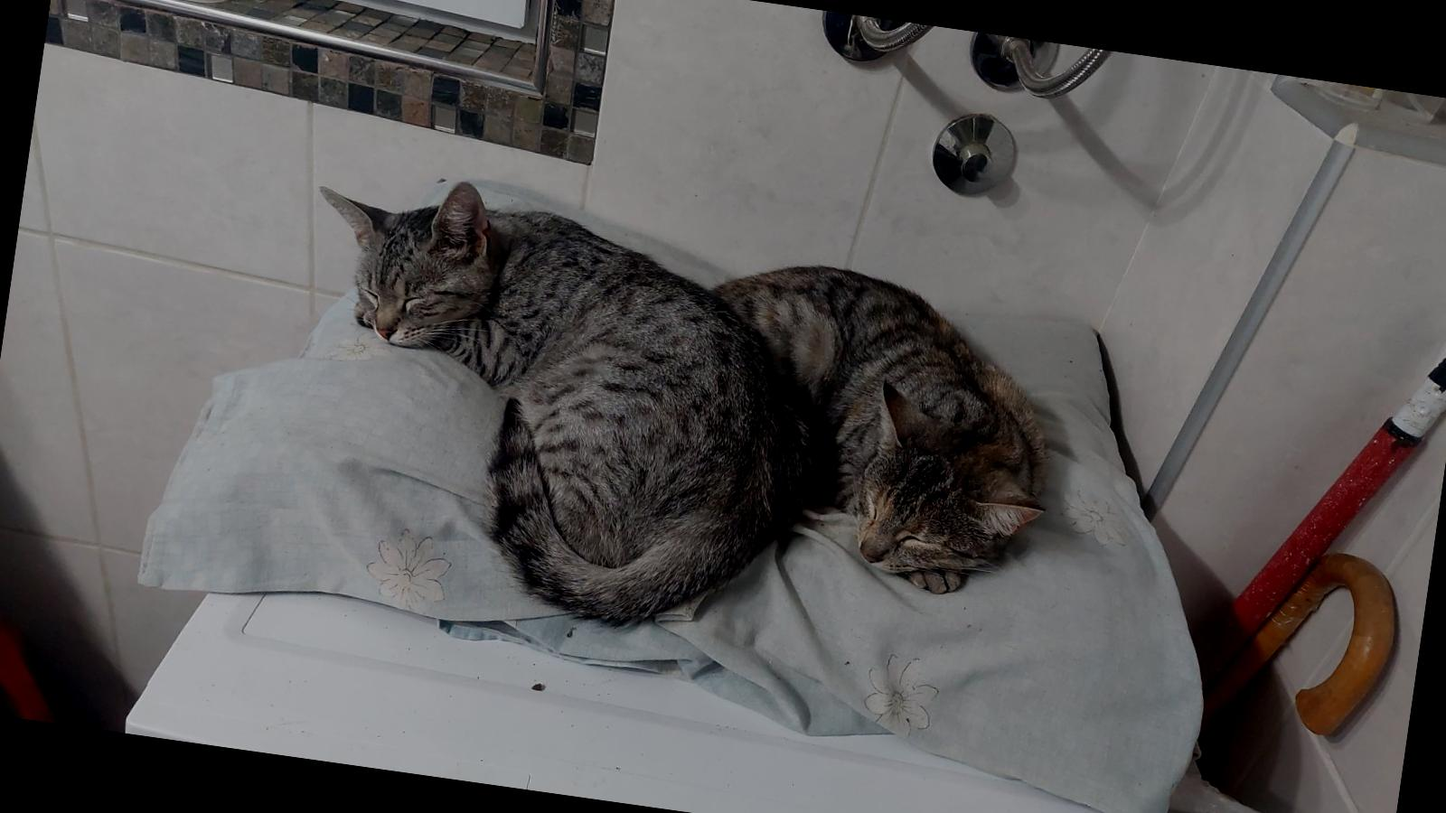macka: (267, 159, 846, 648), (672, 249, 1066, 610)
